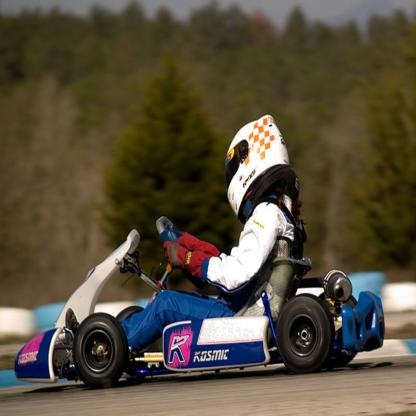Helmet: (225, 120, 302, 227)
